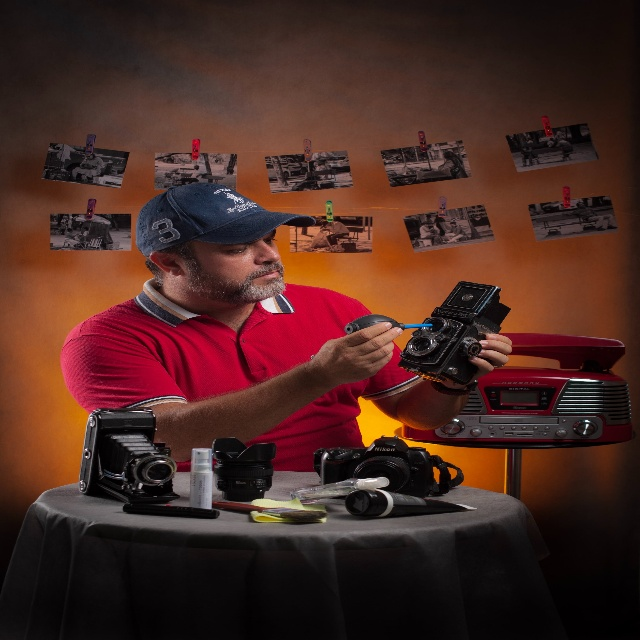Sin_guantes: (317, 321, 403, 388), (440, 333, 512, 390)
